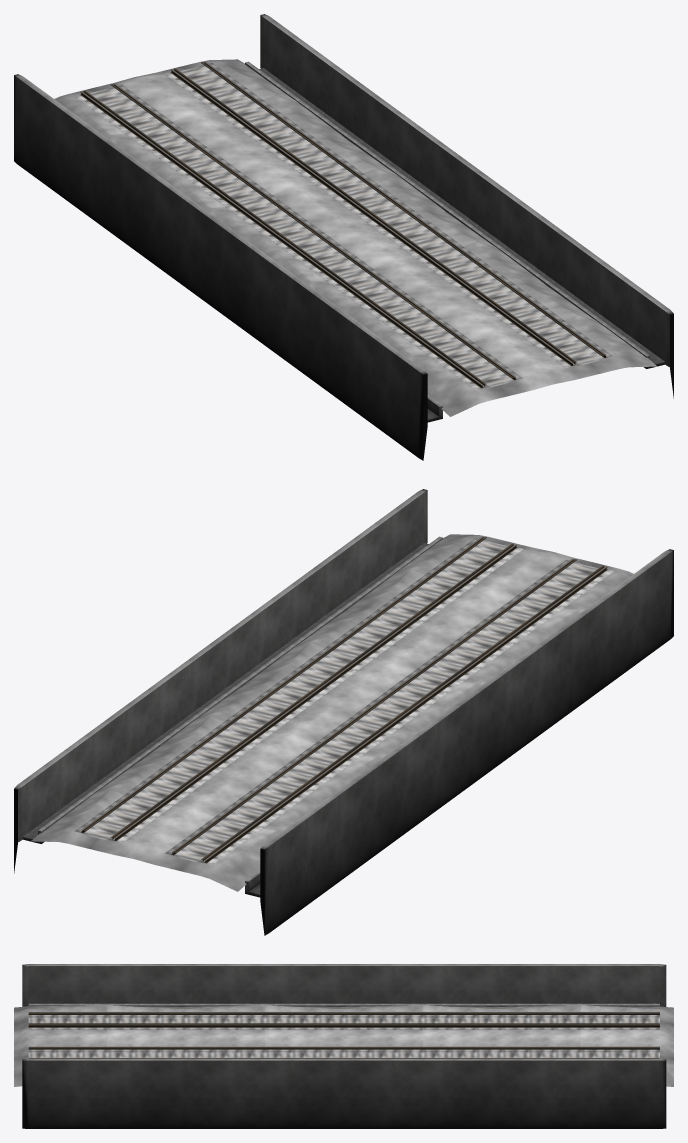
The model's file is HT_2RAIL_100_WALL.glb.
The picture shows the model from 3 angles, top to bottom: view 1: azimuth 30°, elevation 25°; view 2: azimuth 150°, elevation 25°; view 3: azimuth 270°, elevation 25°; orthographic projection. The views are drawn at different scales.
Parts seen in each view (by area): view 1: Jari_All, R000_RG_R, R000_RG_L; view 2: Jari_All, R000_RG_R, R000_RG_L; view 3: Jari_All, R000_RG_R, R000_RG_L.
Part boxes in pixels (bbox=[...]): Jari_All: bbox=[14, 14, 673, 460]; R000_RG_R: bbox=[83, 68, 576, 386]; R000_RG_L: bbox=[110, 62, 603, 378]; Jari_All: bbox=[14, 489, 673, 935]; R000_RG_R: bbox=[110, 543, 604, 861]; R000_RG_L: bbox=[83, 537, 577, 854]; Jari_All: bbox=[14, 964, 673, 1128]; R000_RG_R: bbox=[28, 1013, 659, 1049]; R000_RG_L: bbox=[28, 1023, 659, 1058].
Size of the model in its own units: 36.23 by 11.93 by 105.
8 materials, 8 textured.
